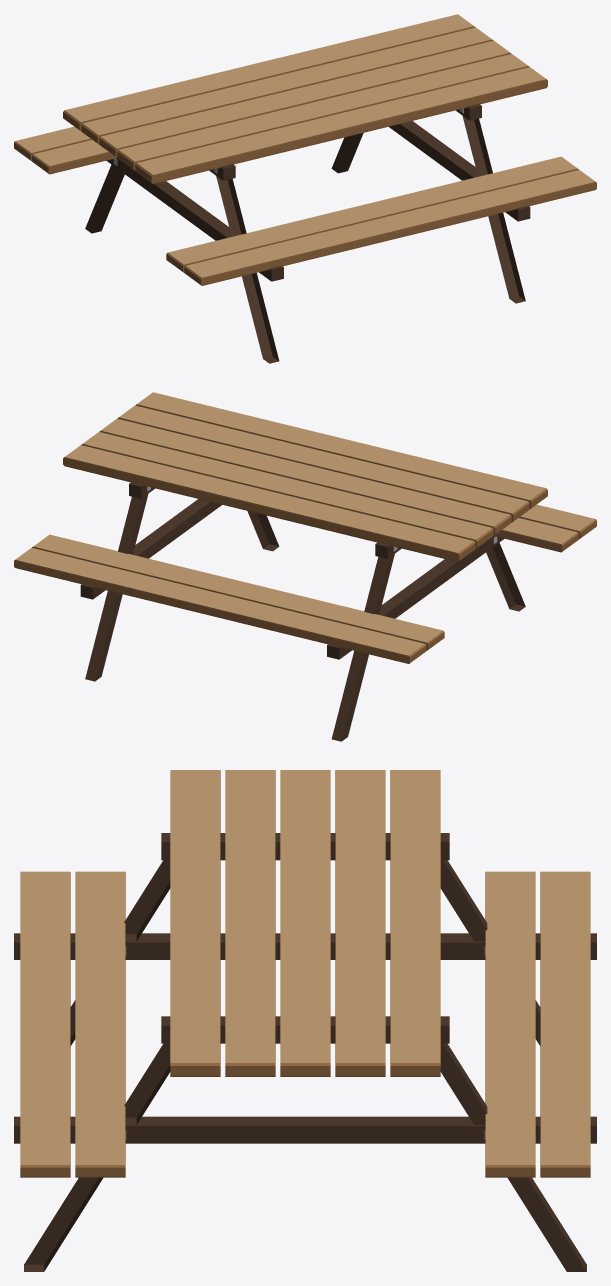
File: FN_Table_Picnic.glb
3 renders of one model, top to bottom at view 1: azimuth 30°, elevation 25°; view 2: azimuth 150°, elevation 25°; view 3: azimuth 270°, elevation 25°, orthographic. The views are drawn at different scales.
Visible parts, largest first — view 1: FN_Table_Picnic; view 2: FN_Table_Picnic; view 3: FN_Table_Picnic.
Part boxes in pixels (left/top/right/bottom): FN_Table_Picnic: left=14, top=14, right=596, bottom=363; FN_Table_Picnic: left=14, top=392, right=596, bottom=741; FN_Table_Picnic: left=14, top=770, right=596, bottom=1271.
Size of the model in its own units: 1.8 by 0.74 by 1.5.
1 material, 1 textured.
